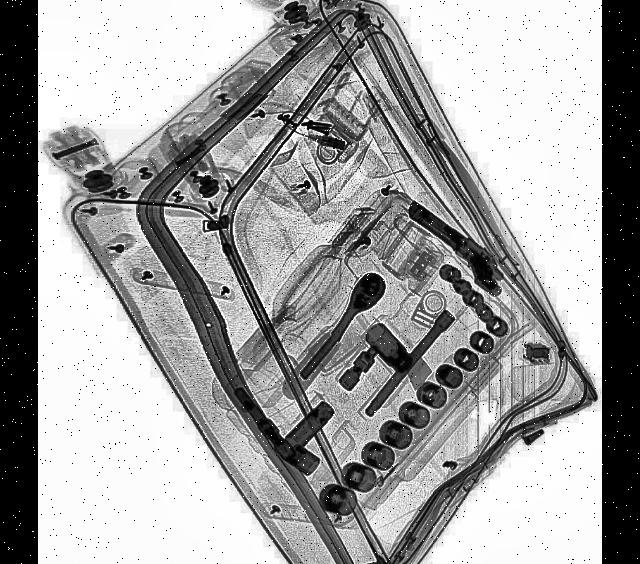Gun: (398, 197, 512, 301)
